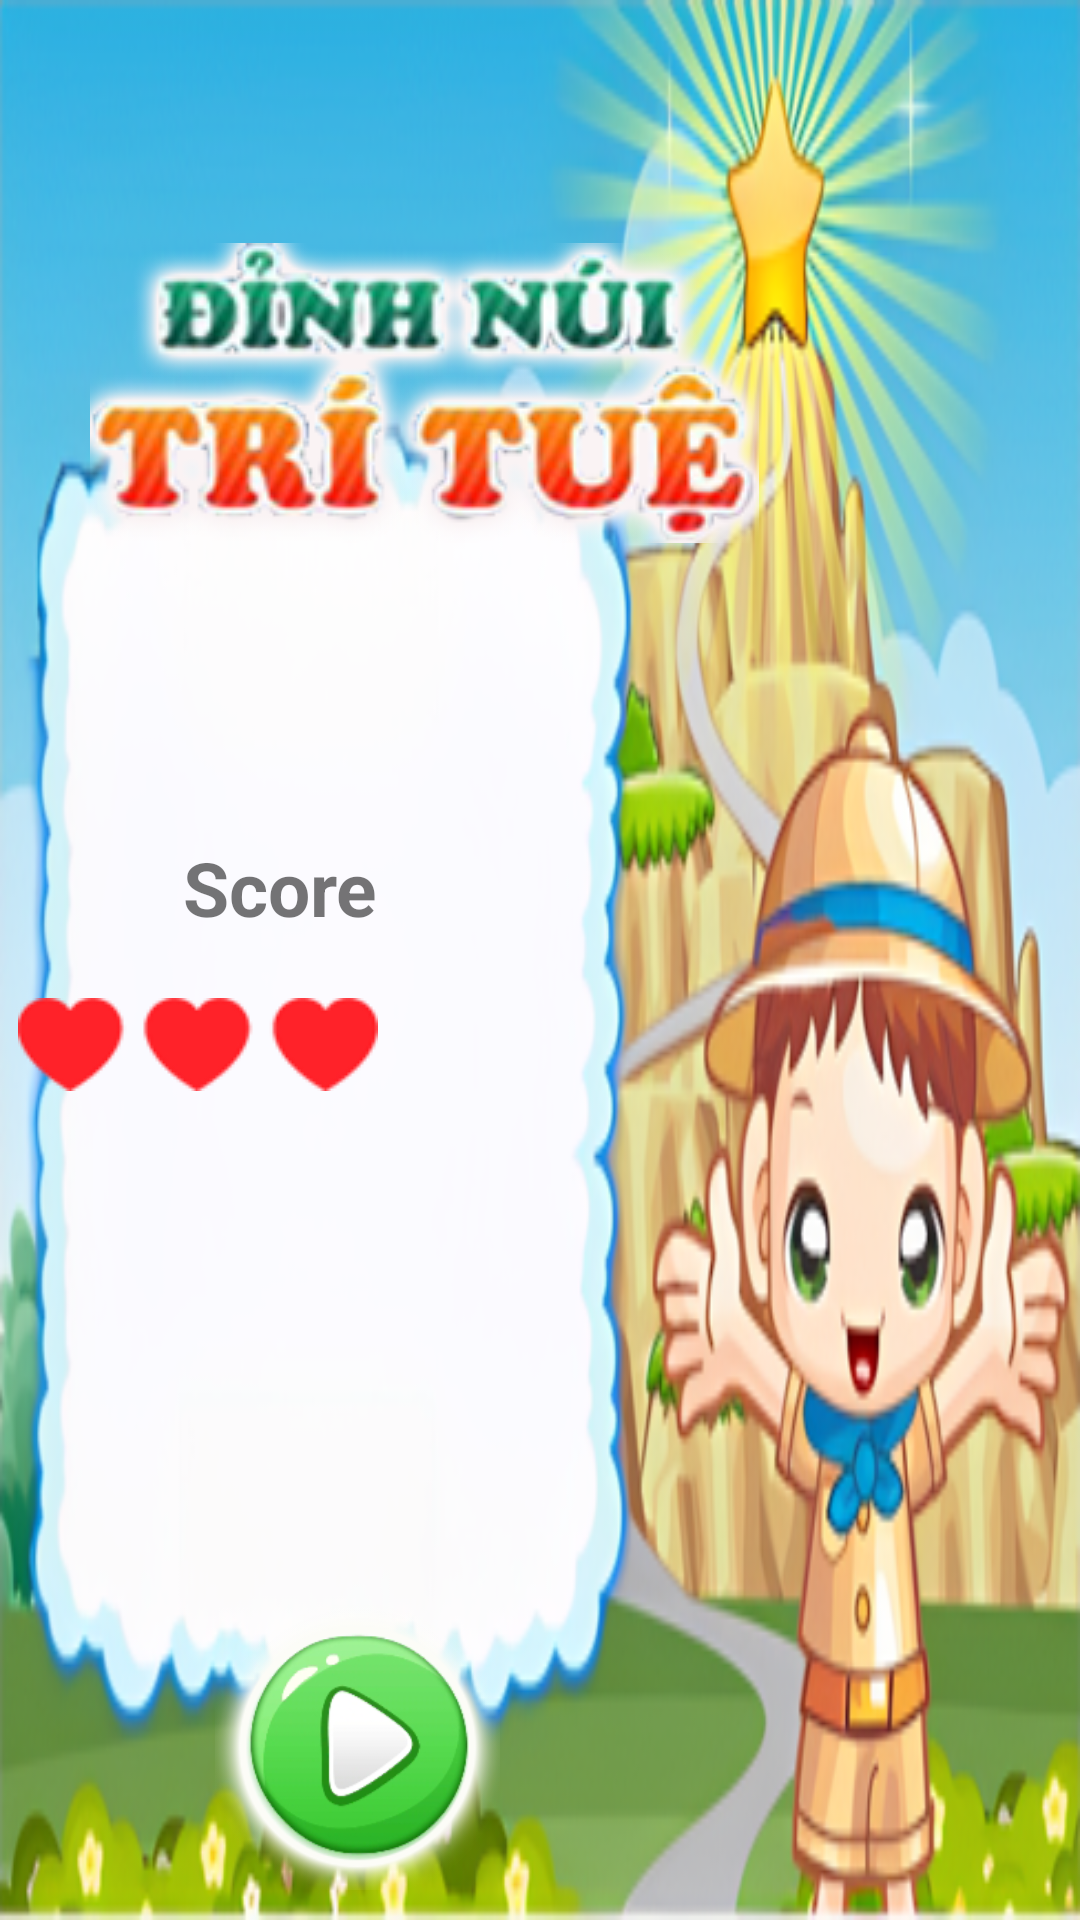

Screen size 1080px×1920px. Icon name, then its center in pixels as point (x, y):
play: point (357, 1747)
